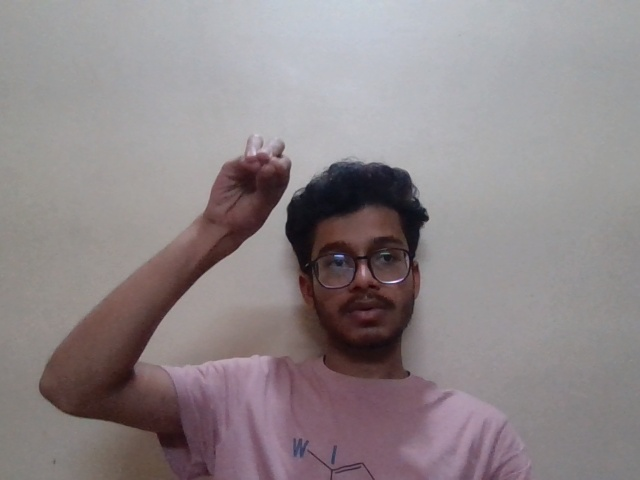talk: (194, 115, 303, 255)
